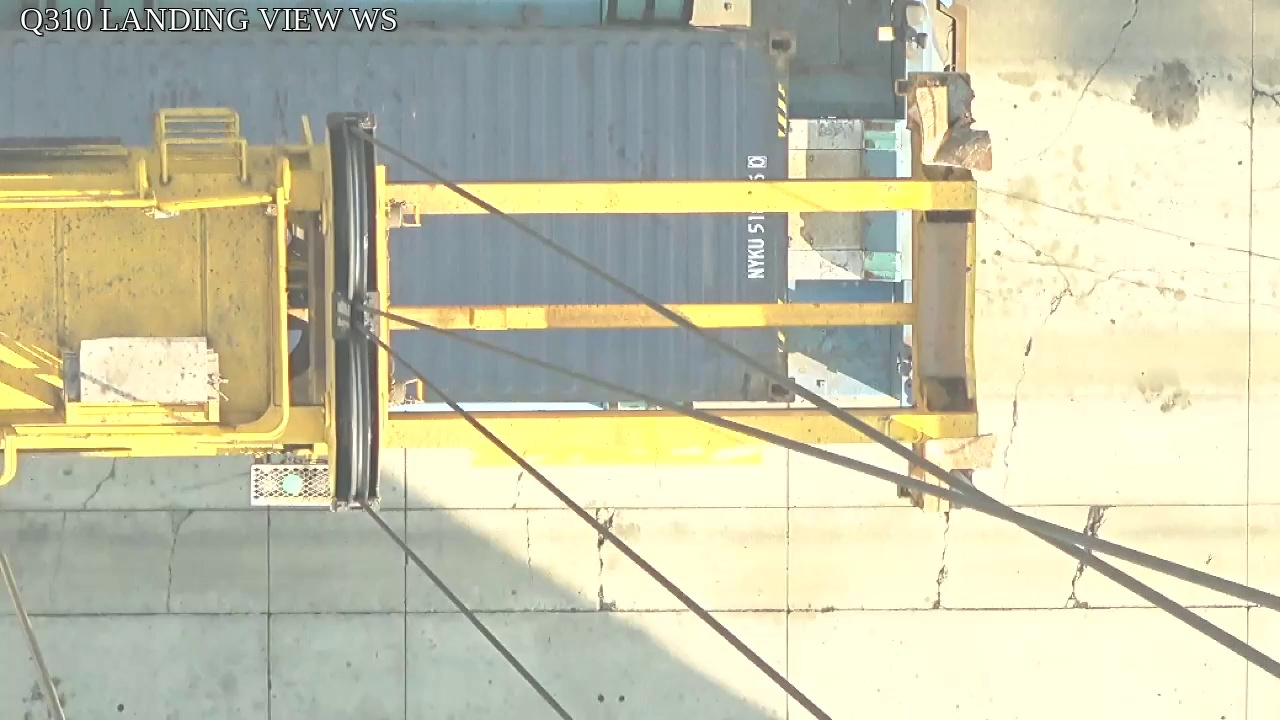right: (321, 110, 389, 513)
